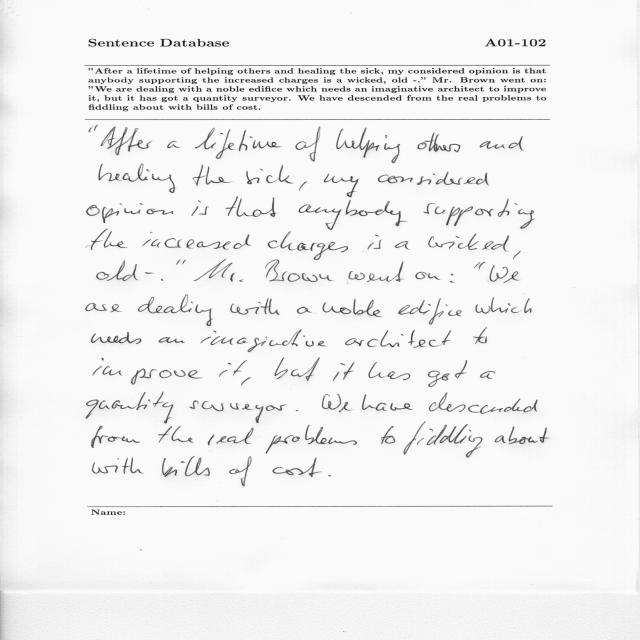word: (423, 198, 535, 229), (299, 200, 407, 230), (93, 358, 203, 385), (201, 330, 327, 353), (404, 422, 483, 458), (195, 128, 282, 159), (86, 392, 173, 423), (266, 425, 357, 454), (429, 392, 537, 414), (138, 295, 213, 326), (87, 203, 173, 230), (268, 231, 348, 260), (336, 128, 400, 164), (189, 401, 287, 424), (99, 164, 176, 193), (345, 330, 451, 348), (142, 232, 251, 249), (398, 299, 462, 325), (378, 172, 490, 186), (101, 127, 153, 156), (265, 260, 333, 282), (428, 234, 509, 252), (347, 261, 404, 284), (194, 259, 243, 282), (322, 299, 383, 317), (274, 358, 320, 381), (92, 426, 140, 448), (428, 360, 467, 387), (226, 197, 278, 217), (162, 457, 210, 477), (495, 427, 550, 444), (273, 458, 322, 477), (476, 298, 532, 314), (247, 165, 294, 184), (97, 260, 139, 281), (296, 127, 321, 162), (362, 394, 413, 411), (193, 164, 232, 186), (230, 298, 280, 315), (324, 174, 359, 198), (87, 230, 128, 250), (418, 133, 461, 152), (93, 458, 144, 474), (208, 428, 253, 445), (369, 362, 411, 380), (480, 136, 524, 151), (230, 457, 252, 487), (158, 426, 194, 443), (92, 332, 142, 344), (490, 265, 520, 283), (322, 394, 352, 412), (219, 360, 247, 377), (333, 362, 355, 381), (86, 303, 122, 312), (191, 200, 209, 216), (381, 426, 395, 444), (473, 328, 487, 344), (368, 235, 382, 250), (415, 272, 441, 280), (159, 337, 185, 343), (395, 241, 409, 250), (480, 371, 495, 379), (297, 307, 311, 314), (167, 141, 180, 148), (241, 377, 251, 386), (474, 262, 485, 270), (299, 181, 307, 191), (513, 251, 521, 259), (89, 125, 98, 132), (176, 260, 186, 265), (450, 274, 454, 283), (145, 272, 154, 274), (329, 475, 332, 477), (161, 279, 163, 281), (296, 410, 299, 411)
